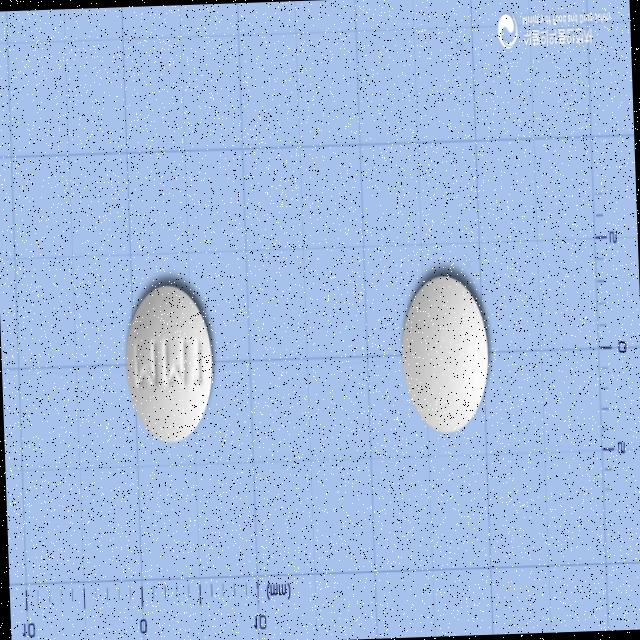Leflunomide - 20mg: (398, 272, 492, 436), (122, 284, 216, 446)
